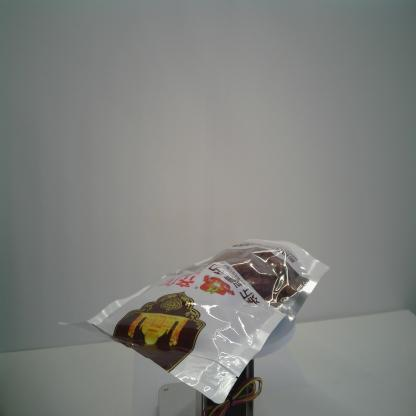Dried Food: (55, 236, 331, 407)
